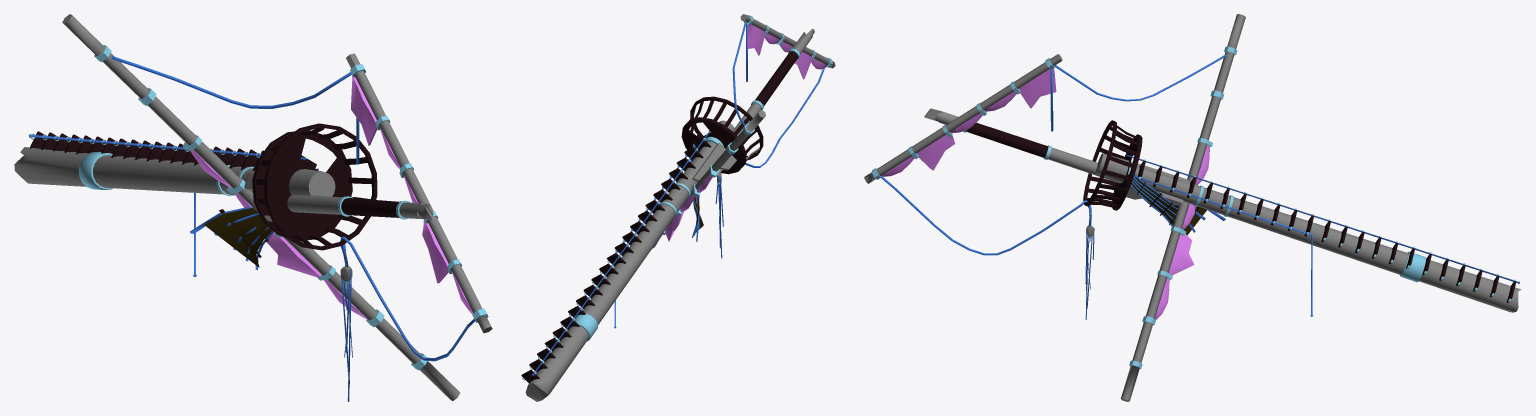
Rendered from Mast.fbx.
The picture shows the model from 3 angles, left to right: view 1: azimuth 30°, elevation 25°; view 2: azimuth 150°, elevation 25°; view 3: azimuth 270°, elevation 25°; orthographic projection. The views are drawn at different scales.
Visible parts, largest first — view 1: gzegz001; view 2: gzegz001; view 3: gzegz001.
Boxes of the visible parts, x1,y1,x2,y2 form: gzegz001: (14,14,492,401); gzegz001: (521,14,835,401); gzegz001: (864,14,1521,401).
Size of the model in its own units: 4.36 by 5.52 by 11.1.
